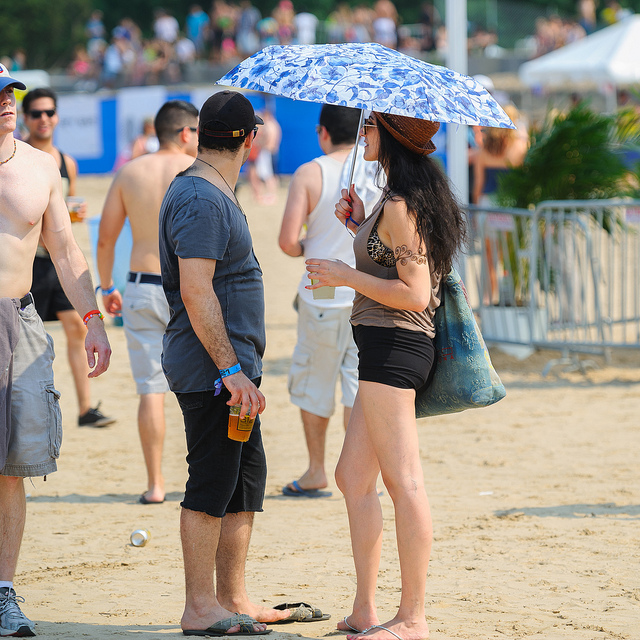Person: (172, 85, 310, 631), (1, 51, 105, 640), (345, 108, 449, 640)
